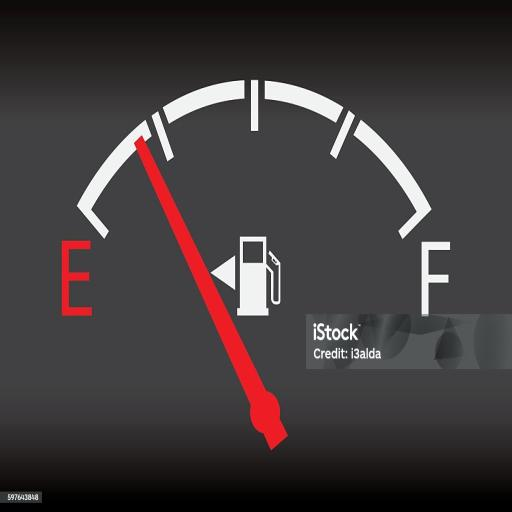empty: (59, 241, 96, 320)
fuel_icon: (236, 234, 286, 320)
full: (417, 238, 455, 318)
guage_area: (54, 75, 464, 456)
needle_center: (243, 387, 293, 440)
needle_tip: (131, 132, 151, 166)
